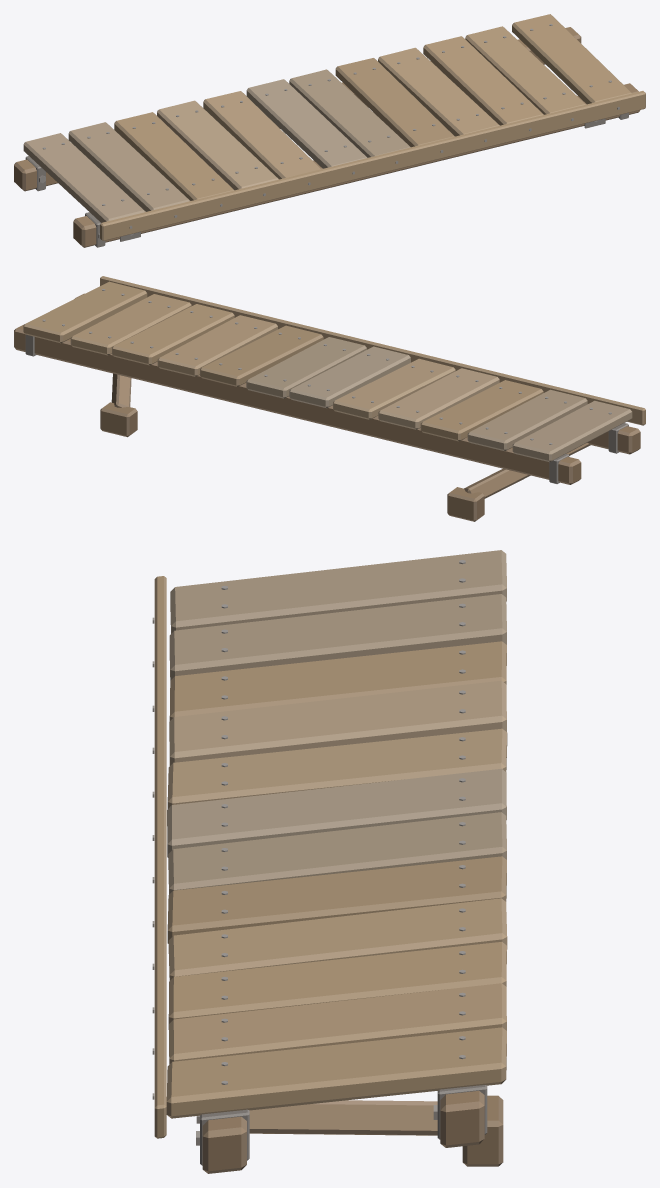
The model's file is platform_bracket_360.glb.
The picture shows the model from 3 angles, top to bottom: view 1: azimuth 30°, elevation 25°; view 2: azimuth 150°, elevation 25°; view 3: azimuth 270°, elevation 25°; orthographic projection. The views are drawn at different scales.
Visible parts, largest first — view 1: Wood, Iron; view 2: Wood, Iron; view 3: Wood, Iron.
Part boxes in pixels (bbox=[...]): Wood: bbox=[14, 14, 645, 247]; Iron: bbox=[25, 24, 628, 247]; Wood: bbox=[14, 276, 645, 521]; Iron: bbox=[25, 289, 628, 483]; Wood: bbox=[154, 550, 507, 1173]; Iron: bbox=[152, 560, 487, 1165].
Size of the model in its own units: 3.8 by 0.5819 by 1.04.
